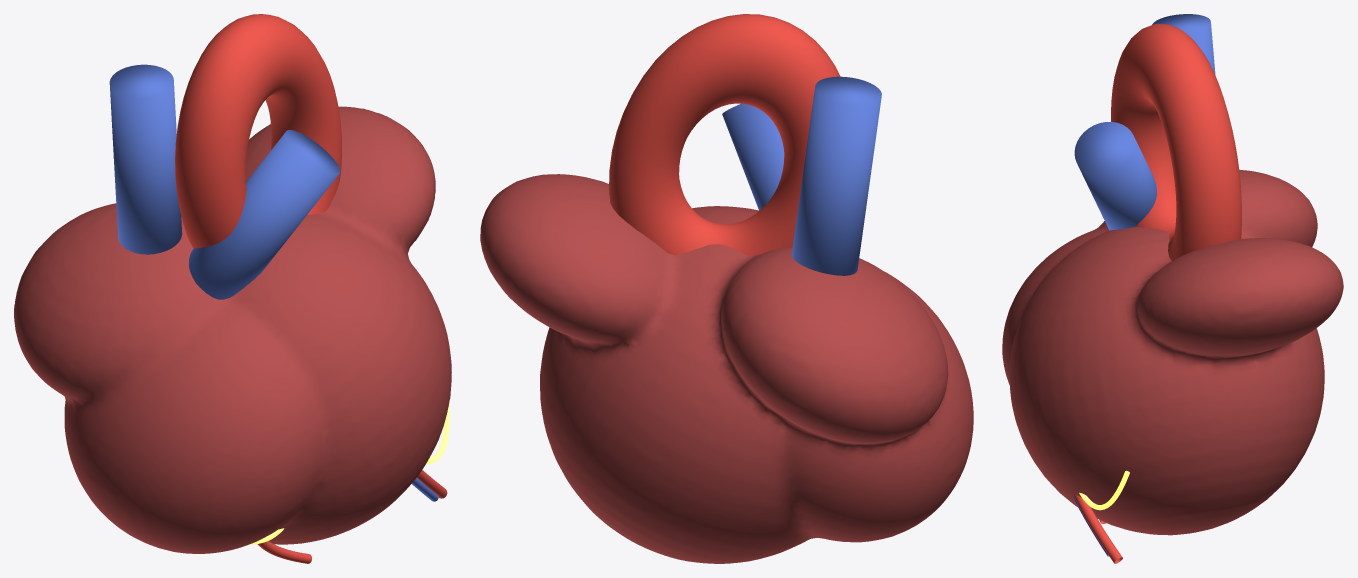
Rendered from heart.glb.
3 views of the same model, side by side, from view 1: azimuth 30°, elevation 25°; view 2: azimuth 150°, elevation 25°; view 3: azimuth 270°, elevation 25° (orthographic). The views are drawn at different scales.
Visible parts, largest first — view 1: Heart_Muscle; view 2: Heart_Muscle; view 3: Heart_Muscle.
Boxes of the visible parts, x1,y1,x2,y2 form: Heart_Muscle: (14,14,451,563); Heart_Muscle: (480,14,973,563); Heart_Muscle: (1002,14,1343,563).
Size of the model in its own units: 0.0962 by 0.12 by 0.0769.
